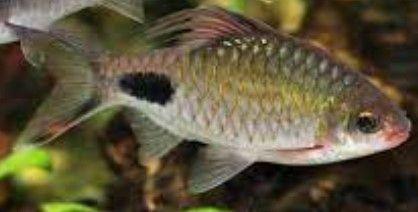Black Spotted Barb: (5, 5, 411, 196)
